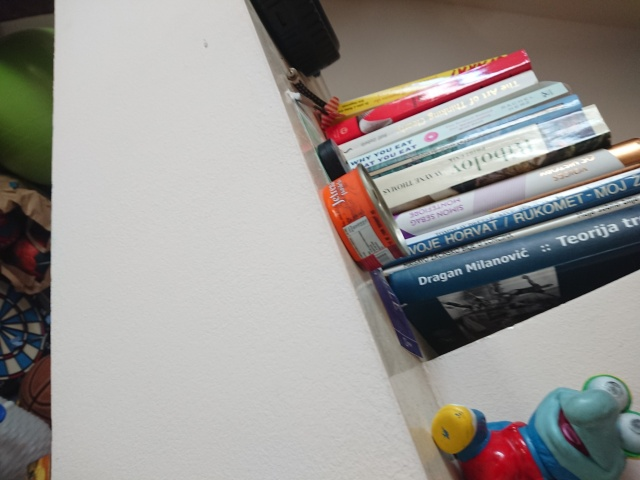Gavrilovic Pork Liver Pate 100g: (320, 161, 413, 273)
